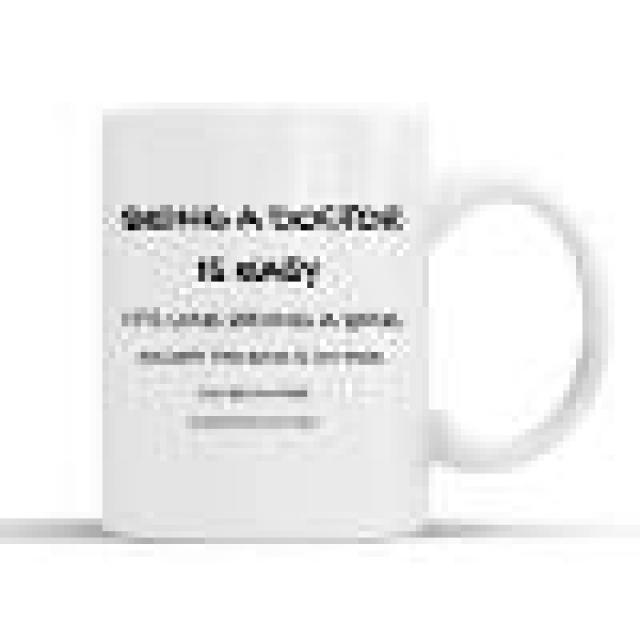taza: (71, 81, 614, 548)
